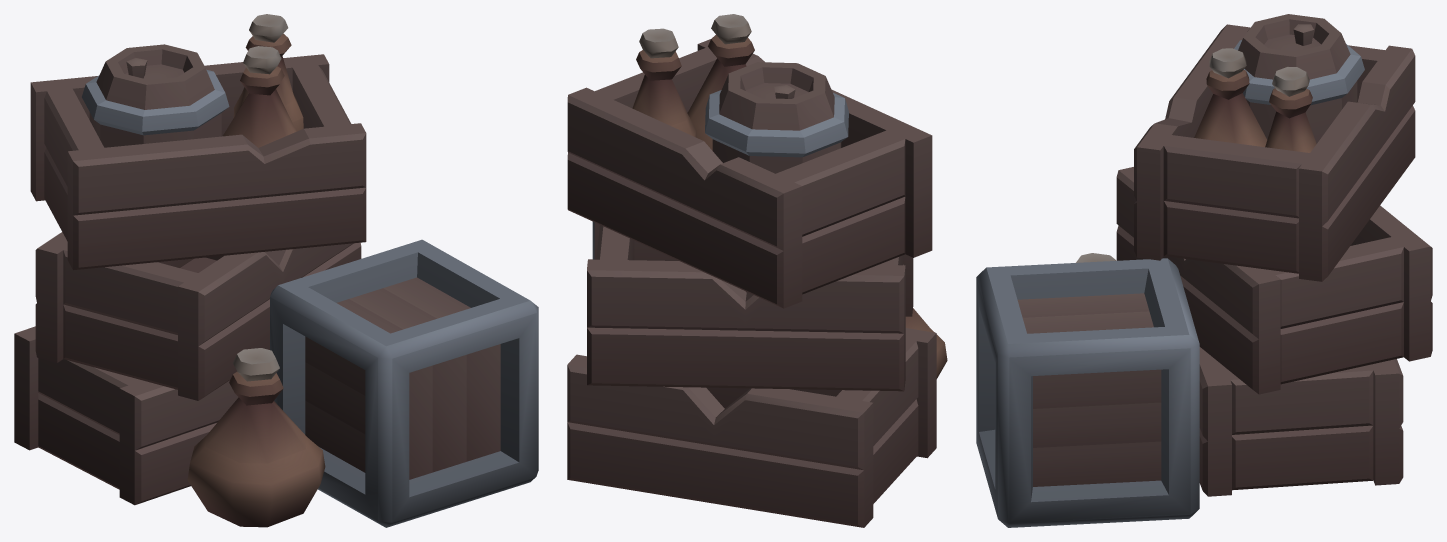
File: crates_stacked.glb
The picture shows the model from 3 angles, left to right: view 1: azimuth 30°, elevation 25°; view 2: azimuth 150°, elevation 25°; view 3: azimuth 270°, elevation 25°; orthographic projection. The views are drawn at different scales.
Visible parts, largest first — view 1: crates_stacked; view 2: crates_stacked; view 3: crates_stacked.
Boxes of the visible parts, bbox=[...] form: crates_stacked: bbox=[14, 14, 538, 527]; crates_stacked: bbox=[567, 14, 947, 527]; crates_stacked: bbox=[976, 14, 1432, 527].
Size of the model in its own units: 2.09 by 2.14 by 2.25.
1 material, 1 textured.
